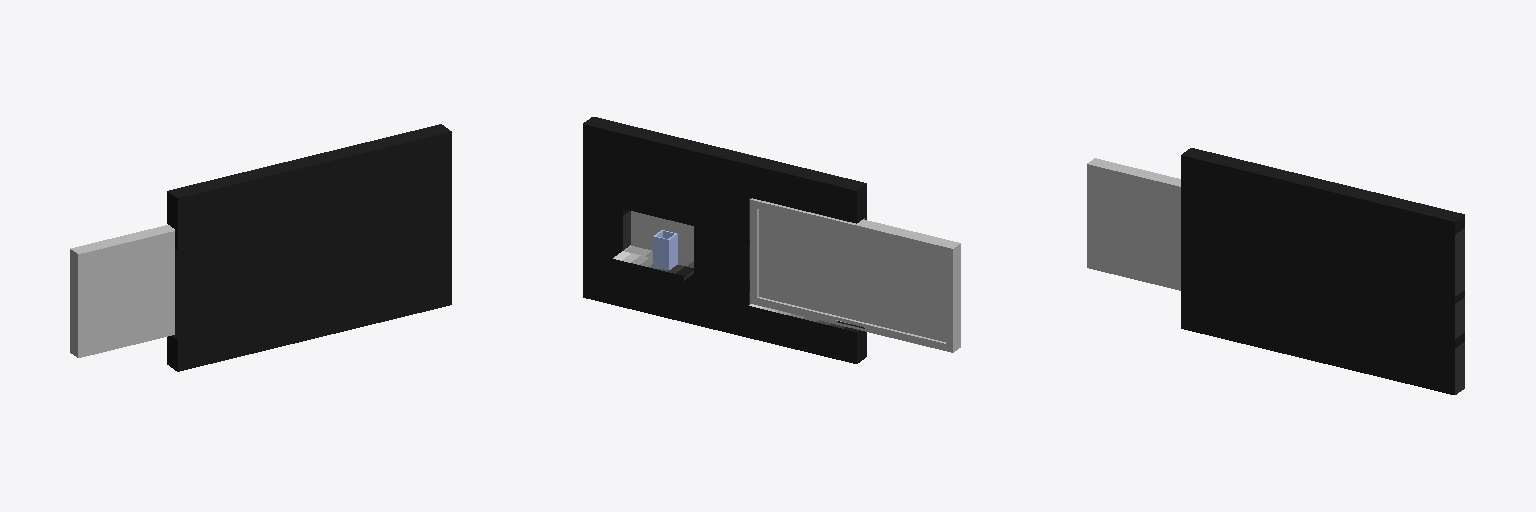
3 renders of one model, left to right at view 1: azimuth 30°, elevation 25°; view 2: azimuth 150°, elevation 25°; view 3: azimuth 330°, elevation 25°, orthographic.
Parts seen in each view (by area): view 1: cube.065, cube.072, cube.064, cube.077, cube.070, cube.071, cube.068, cube.066, cube.067, cube.073, cube.076; view 2: cube.077, cube.065, cube.064, cube.070, cube.071, cube.073, cube.066, cube.067, cube.074, cube.068, cube.076, cube.069 (+1 smaller); view 3: cube.065, cube.072, cube.064, cube.077, cube.070, cube.071, cube.068, cube.066, cube.067, cube.073, cube.076.
Boxes of the visible parts, x1=… form: cube.065: x1=276, y1=124, x2=451, y2=246; cube.072: x1=175, y1=205, x2=285, y2=339; cube.064: x1=286, y1=249, x2=451, y2=344; cube.077: x1=85, y1=238, x2=174, y2=356; cube.070: x1=167, y1=164, x2=285, y2=230; cube.071: x1=167, y1=313, x2=285, y2=371; cube.068: x1=340, y1=216, x2=411, y2=275; cube.066: x1=286, y1=234, x2=339, y2=288; cube.067: x1=412, y1=207, x2=451, y2=257; cube.073: x1=70, y1=225, x2=174, y2=261; cube.076: x1=70, y1=256, x2=84, y2=351; cube.077: x1=759, y1=209, x2=945, y2=341; cube.065: x1=583, y1=117, x2=757, y2=239; cube.064: x1=583, y1=241, x2=749, y2=337; cube.070: x1=749, y1=157, x2=866, y2=223; cube.071: x1=749, y1=304, x2=866, y2=363; cube.073: x1=750, y1=198, x2=960, y2=255; cube.066: x1=694, y1=226, x2=749, y2=281; cube.067: x1=583, y1=199, x2=630, y2=250; cube.074: x1=756, y1=297, x2=960, y2=352; cube.068: x1=631, y1=211, x2=693, y2=260; cube.076: x1=946, y1=251, x2=960, y2=345; cube.069: x1=612, y1=251, x2=693, y2=280; cube.065: x1=1289, y1=174, x2=1464, y2=296; cube.072: x1=1181, y1=188, x2=1288, y2=322; cube.064: x1=1289, y1=299, x2=1464, y2=394; cube.077: x1=1094, y1=173, x2=1180, y2=289; cube.070: x1=1181, y1=148, x2=1298, y2=213; cube.071: x1=1181, y1=297, x2=1288, y2=354; cube.068: x1=1343, y1=270, x2=1414, y2=328; cube.066: x1=1289, y1=257, x2=1342, y2=311; cube.067: x1=1415, y1=287, x2=1464, y2=338; cube.073: x1=1087, y1=158, x2=1180, y2=193; cube.076: x1=1087, y1=171, x2=1093, y2=262.
Size of the model in its own units: 3.48 by 1.56 by 0.336.
3 materials, 2 textured.